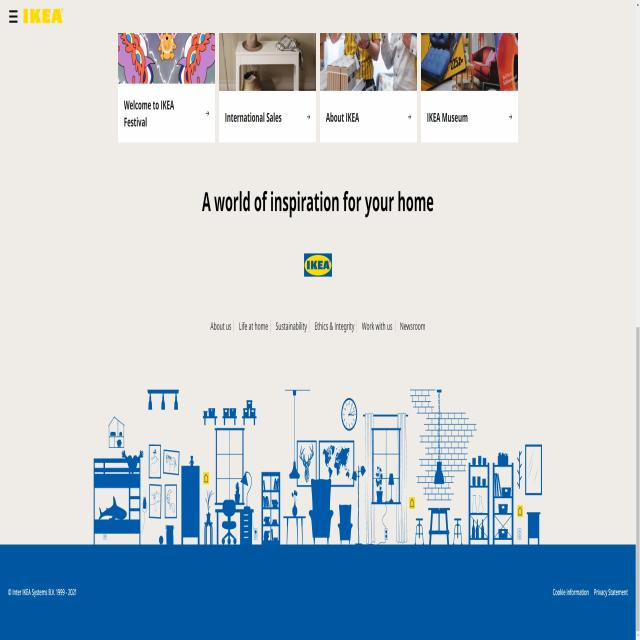tab-bar: (207, 314, 430, 346)
